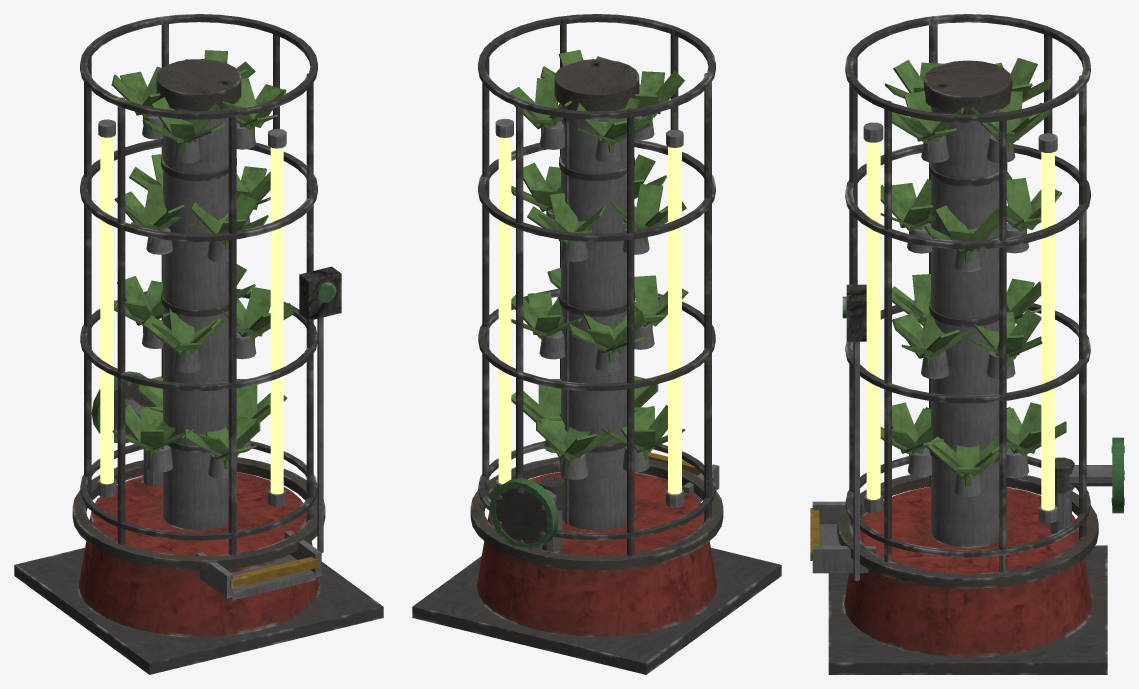
The model's file is feHydroTower_HD.fbx.
3 views of the same model, side by side, from view 1: azimuth 30°, elevation 25°; view 2: azimuth 150°, elevation 25°; view 3: azimuth 270°, elevation 25° (orthographic). The views are drawn at different scales.
Parts seen in each view (by area): view 1: feHydroTower_Base, feHydroTower_Cups, FeGrow_02, FeGrow_06, FeGrow_10, FeGrow_07, FeGrow_03, FeGrow_05, FeGrow_14, FeGrow_11, FeGrow_15, FeGrow_13 (+3 smaller); view 2: feHydroTower_Base, feHydroTower_Cups, FeGrow_01, FeGrow_04, FeGrow_05, FeGrow_02, FeGrow_09, FeGrow_10, FeGrow_08, FeGrow_13, FeGrow_06, FeGrow_12 (+3 smaller); view 3: feHydroTower_Base, feHydroTower_Cups, FeGrow_07, FeGrow_00, FeGrow_04, FeGrow_11, FeGrow_03, FeGrow_01, FeGrow_09, FeGrow_15, FeGrow_08, FeGrow_12 (+4 smaller).
Part boxes in pixels (x1,y1,x2,y2): feHydroTower_Base: (14,14,383,674); feHydroTower_Cups: (142,115,256,478); FeGrow_02: (112,405,193,460); FeGrow_06: (142,307,224,361); FeGrow_10: (114,184,184,243); FeGrow_07: (222,287,293,346); FeGrow_03: (184,415,260,468); FeGrow_05: (114,276,169,333); FeGrow_14: (142,97,225,152); FeGrow_11: (189,193,268,250); FeGrow_15: (222,78,286,136); FeGrow_13: (111,66,161,124); feHydroTower_Base: (412,14,781,674); feHydroTower_Cups: (539,115,654,479); FeGrow_01: (536,415,611,468); FeGrow_04: (511,292,581,344); FeGrow_05: (568,311,646,362); FeGrow_02: (602,405,685,460); FeGrow_09: (527,193,605,250); FeGrow_10: (610,184,686,243); FeGrow_08: (511,162,560,214); FeGrow_13: (576,97,653,153); FeGrow_06: (634,275,688,328); FeGrow_12: (508,78,572,136); feHydroTower_Base: (810,14,1124,674); feHydroTower_Cups: (907,135,1029,496); FeGrow_07: (892,310,972,367); FeGrow_00: (925,436,1011,486); FeGrow_04: (966,309,1042,367); FeGrow_11: (880,179,935,234); FeGrow_03: (880,402,943,462); FeGrow_01: (992,402,1066,461); FeGrow_09: (997,178,1061,234); FeGrow_15: (892,91,963,151); FeGrow_08: (924,205,1006,262); FeGrow_12: (971,91,1051,151).
Size of the model in its own units: 0.9012 by 1.96 by 1.02.
3 materials, 1 textured.
